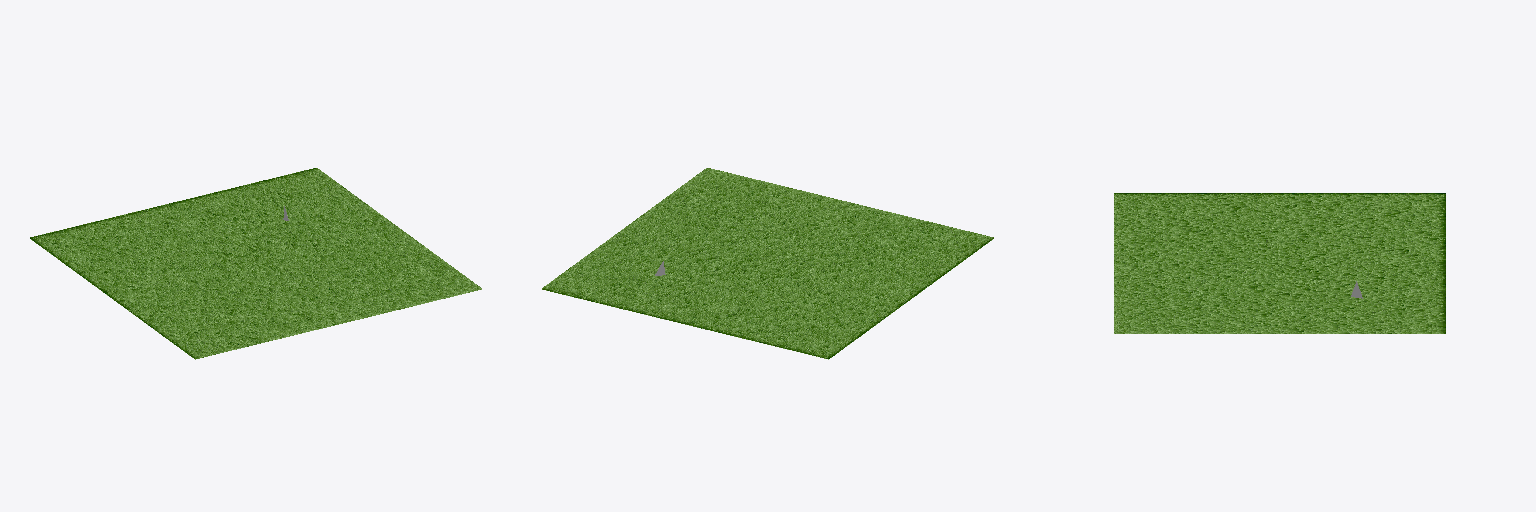
3 views of the same model, side by side, from view 1: azimuth 30°, elevation 25°; view 2: azimuth 150°, elevation 25°; view 3: azimuth 270°, elevation 25° (orthographic).
Visible parts, largest first — view 1: Ground; view 2: Ground; view 3: Ground.
Boxes of the visible parts, <box> form: Ground: <box>30,168,481,359</box>; Ground: <box>542,168,993,359</box>; Ground: <box>1114,193,1445,333</box>.
Bounding box in the file's own units: 2000 × 100 × 2000.
2 materials, 1 textured.